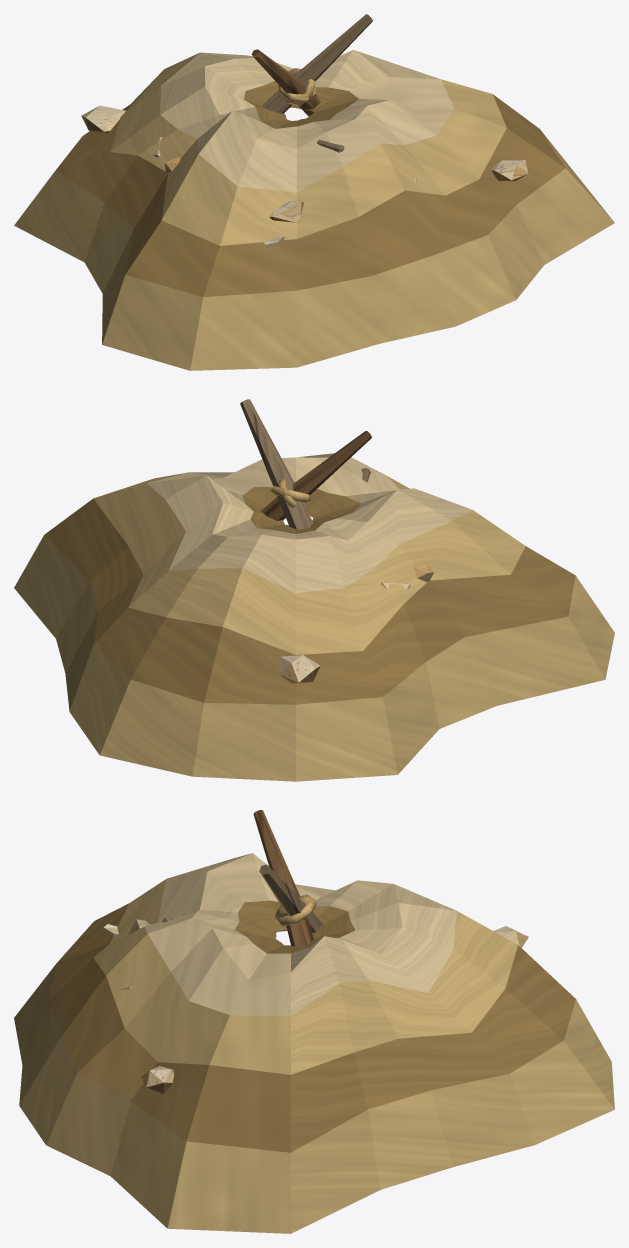
Rendered from dig_mound.glb.
3 views of the same model, one above another, from view 1: azimuth 30°, elevation 25°; view 2: azimuth 150°, elevation 25°; view 3: azimuth 270°, elevation 25° (orthographic). The views are drawn at different scales.
Visible parts, largest first — view 1: DigMound; view 2: DigMound; view 3: DigMound.
Part boxes in pixels (box(x1,y1,x2,y2)): DigMound: box(14, 14, 614, 370); DigMound: box(14, 399, 614, 781); DigMound: box(14, 810, 614, 1233).
Size of the model in its own units: 2.05 by 0.8528 by 1.84.
5 materials, 5 textured.
